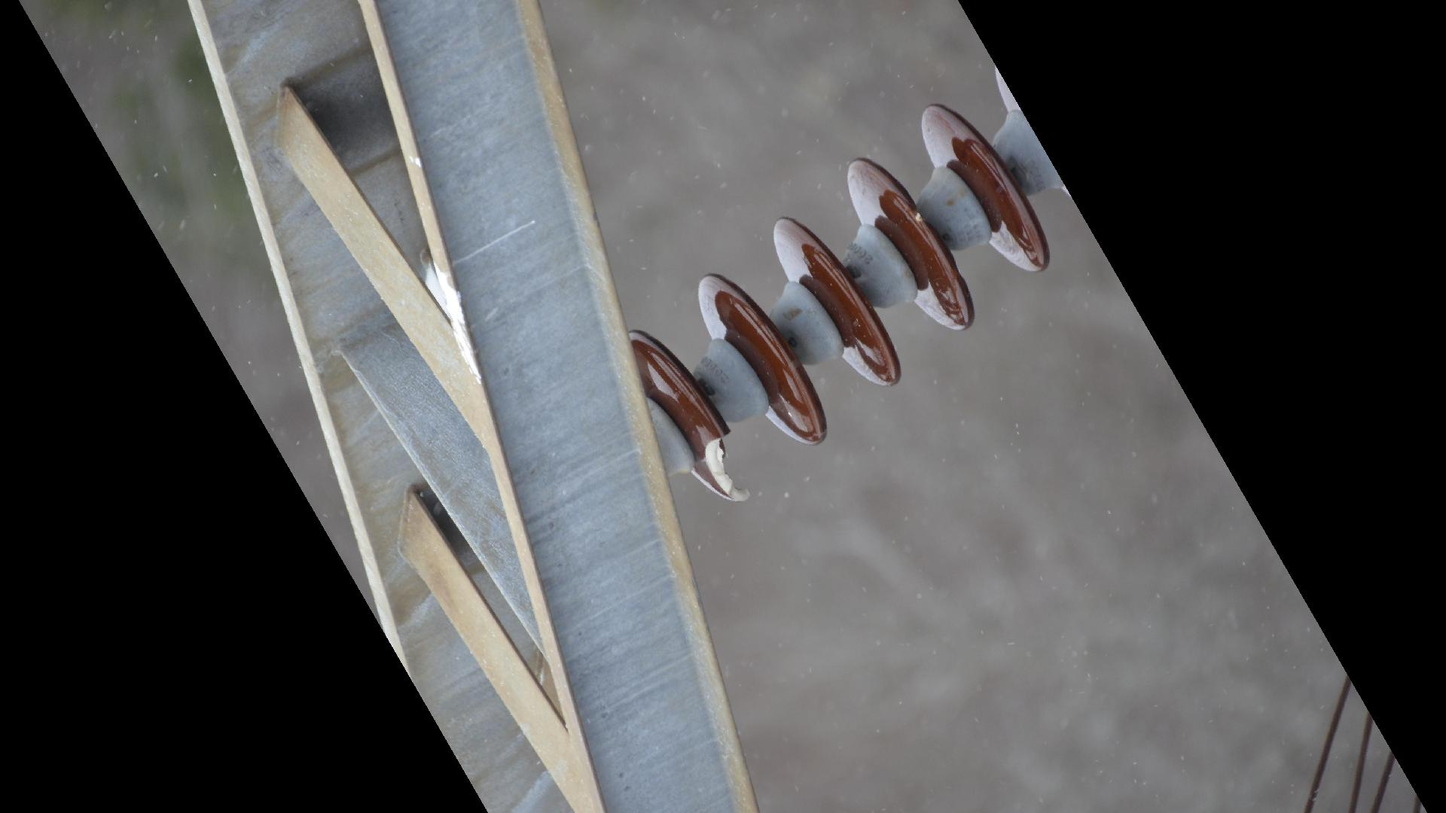insulator: (618, 96, 1057, 510)
insulator_breakage: (693, 414, 758, 510)
